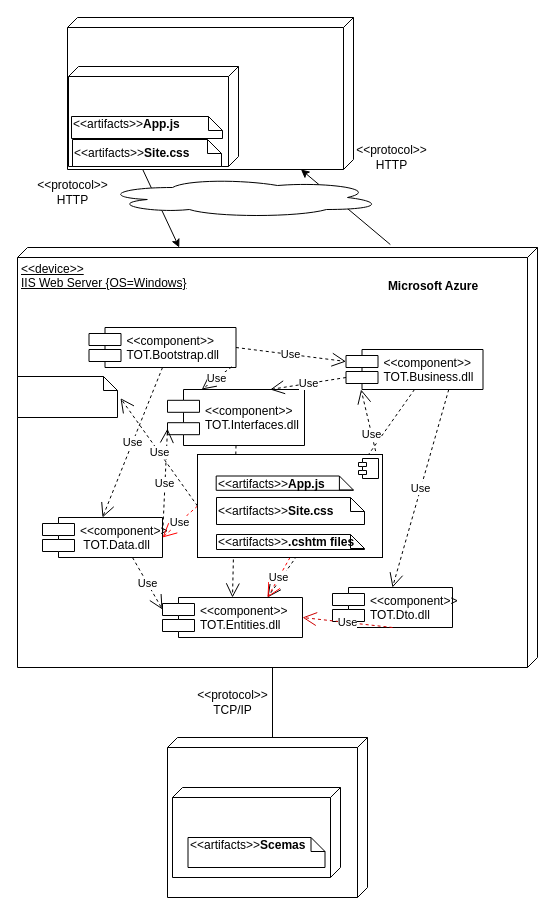
This 555x915 diagram has some shape labels left out. Each missing label, with the box of its shape:
<<artifacts>> appsettings.json config: (16, 376, 118, 418)
<<database system>> MySQL Database: (172, 786, 340, 878)
<<device>> Database Server {OS=Linux}: (166, 736, 368, 898)
<<device>> User PC: (66, 16, 354, 170)
<<device>> Web Browser: (68, 66, 238, 166)
Internet: (102, 176, 382, 218)
TOT.Web: (196, 454, 382, 558)
